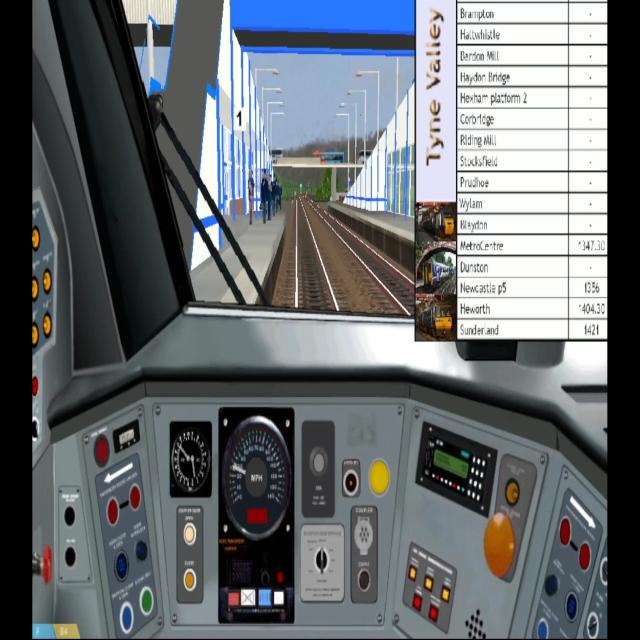Person: (244, 170, 283, 229)
Platform: (190, 197, 294, 315), (326, 200, 415, 281)
Spedometer: (217, 406, 298, 629)
Station: (126, 0, 417, 272)
Track: (311, 200, 417, 325), (272, 193, 352, 316)
